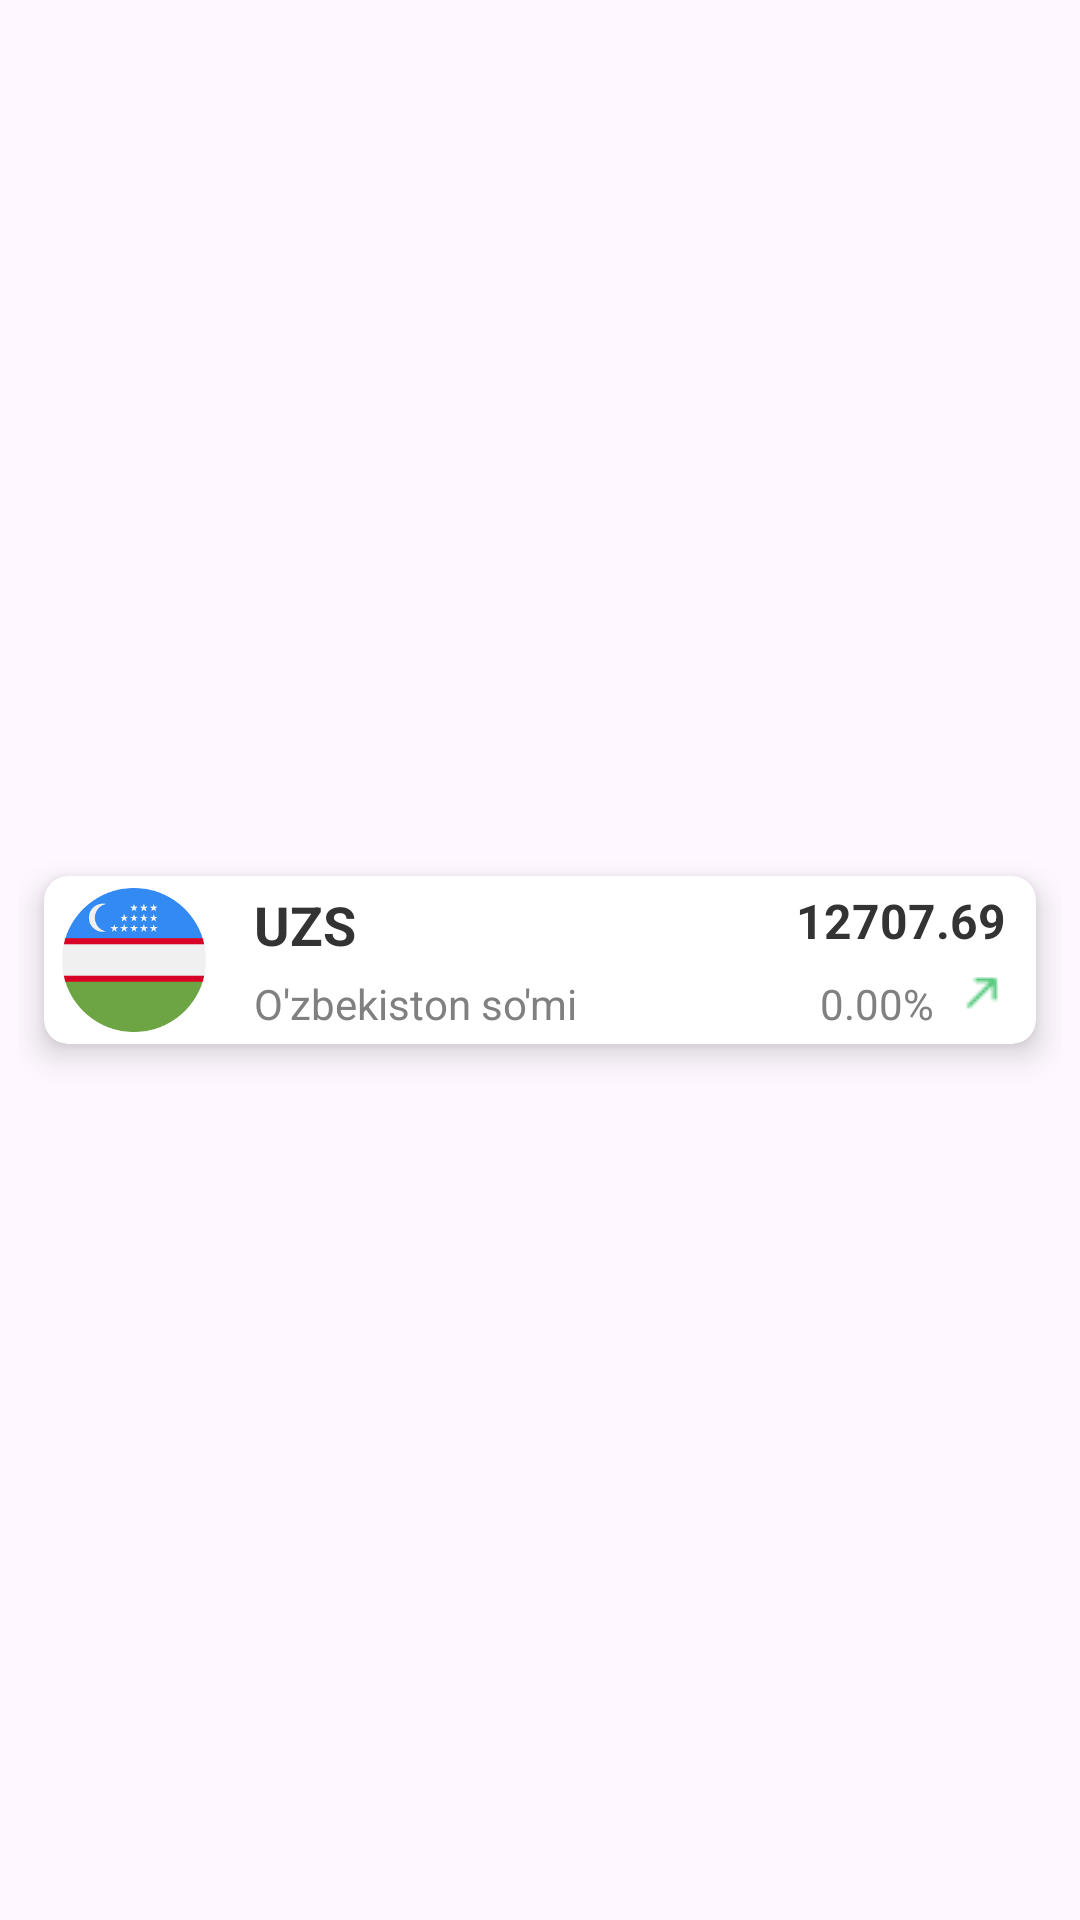

Point at icon controls on the screen. Image size 1080x1920, points as point (x, y).
uzbekistan: point (134, 960)
